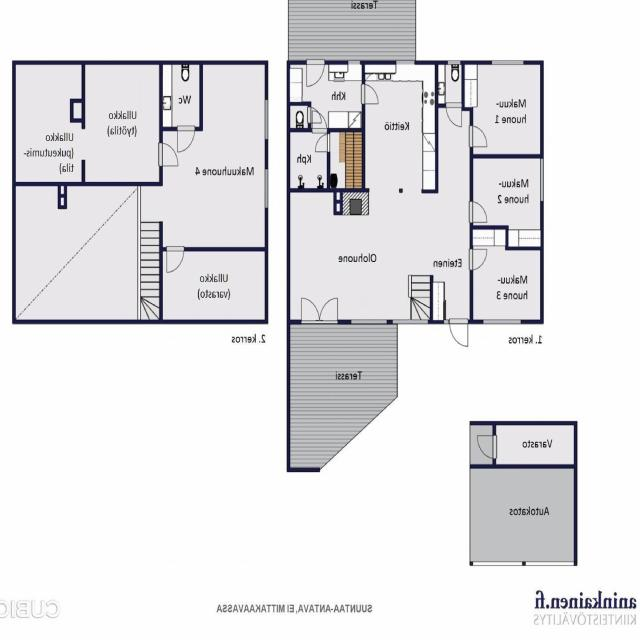door: (450, 319, 468, 348), (302, 296, 320, 324), (320, 296, 338, 324), (307, 60, 324, 88), (167, 247, 184, 275), (476, 436, 496, 459), (160, 143, 180, 166), (178, 127, 194, 153), (470, 125, 489, 146), (470, 201, 489, 222), (470, 249, 489, 270), (446, 104, 462, 128), (362, 83, 380, 104), (312, 108, 327, 132), (314, 133, 331, 152), (308, 107, 323, 123)
